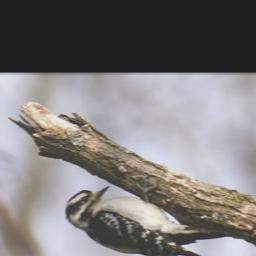Woodpecker: (55, 183, 231, 256)
